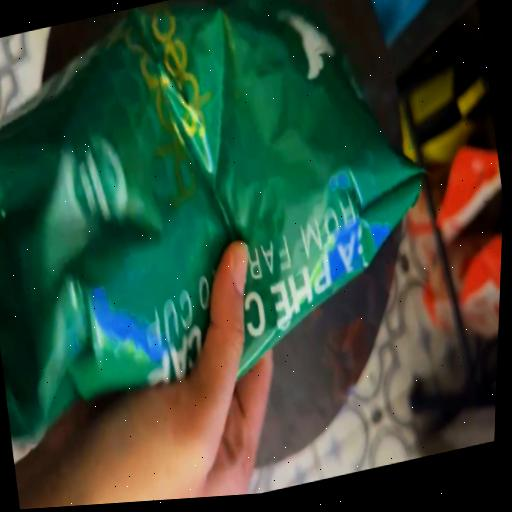cafe_xay: (0, 0, 418, 437)
